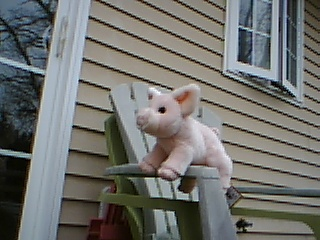piggy: (134, 81, 236, 195)
